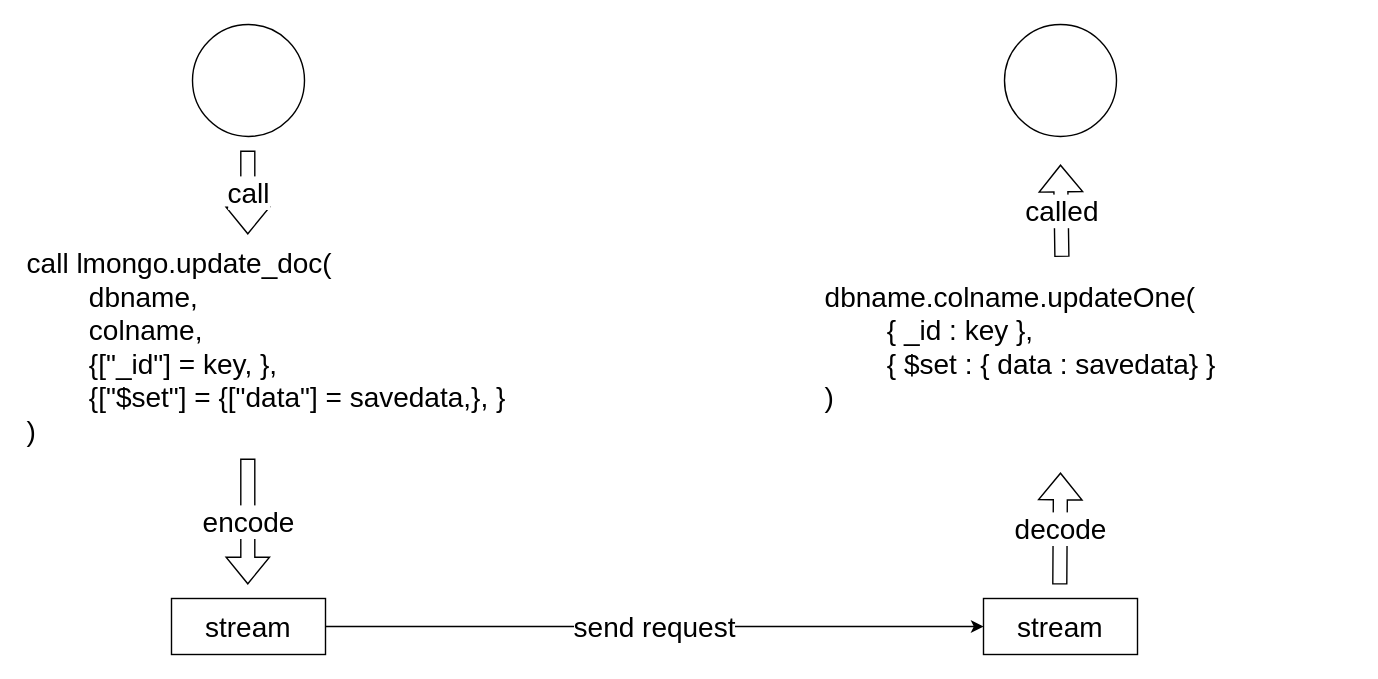
The diagram is 1378 pixels wide and 679 high, and some of its shapes have lost their labels. Each missing label, with the centre of its shape:
"DB" belongs at (x=1059, y=79).
"Server" belongs at (x=247, y=79).
